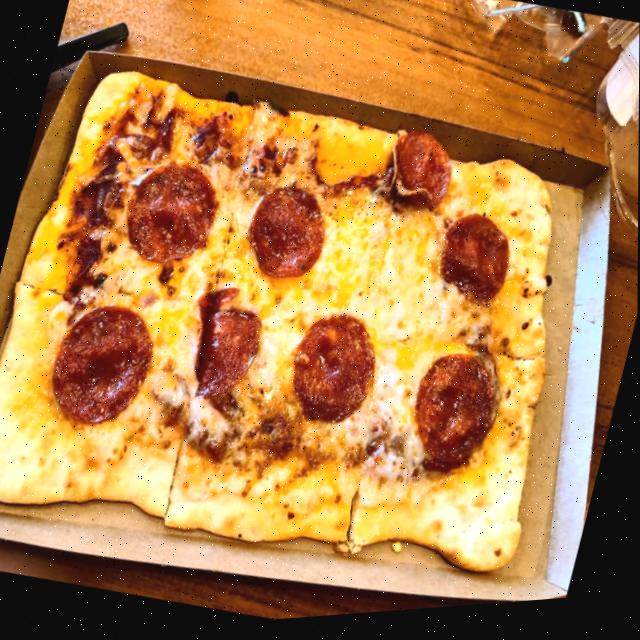pepperoni: (39, 294, 163, 444), (275, 305, 392, 443), (398, 350, 508, 491), (115, 153, 229, 279), (174, 282, 270, 410), (239, 181, 335, 292), (430, 209, 524, 317), (379, 129, 463, 223)
pizza: (0, 30, 616, 627)
